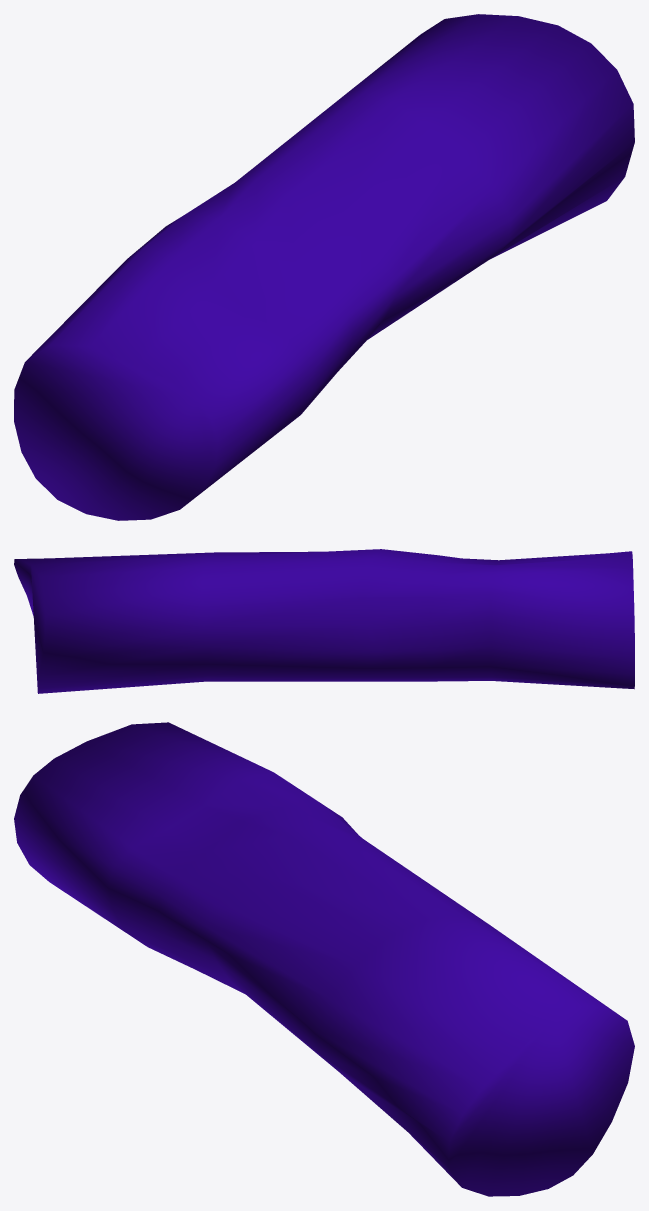
Rendered from buche.fbx.
The picture shows the model from 3 angles, top to bottom: view 1: azimuth 30°, elevation 25°; view 2: azimuth 150°, elevation 25°; view 3: azimuth 270°, elevation 25°; orthographic projection. The views are drawn at different scales.
Parts seen in each view (by area): view 1: buche; view 2: buche; view 3: buche.
Boxes of the visible parts, box(x1,y1,x2,y2) form: buche: box(14, 14, 634, 520); buche: box(14, 549, 634, 693); buche: box(14, 722, 634, 1196).
Bounding box in the file's own units: 4.02 × 1 × 3.
